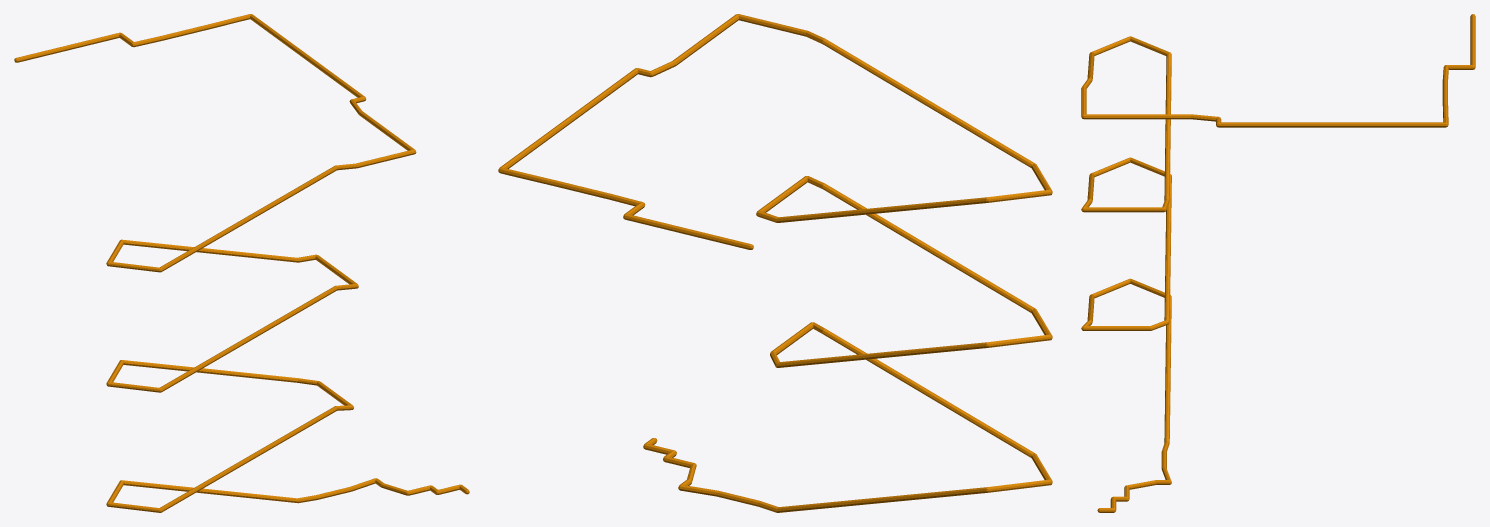
3 renders of one model, left to right at view 1: azimuth 30°, elevation 25°; view 2: azimuth 150°, elevation 25°; view 3: azimuth 270°, elevation 25°, orthographic. The views are drawn at different scales.
Bounding box in the file's own units: 1513 × 1520 × 1475.
